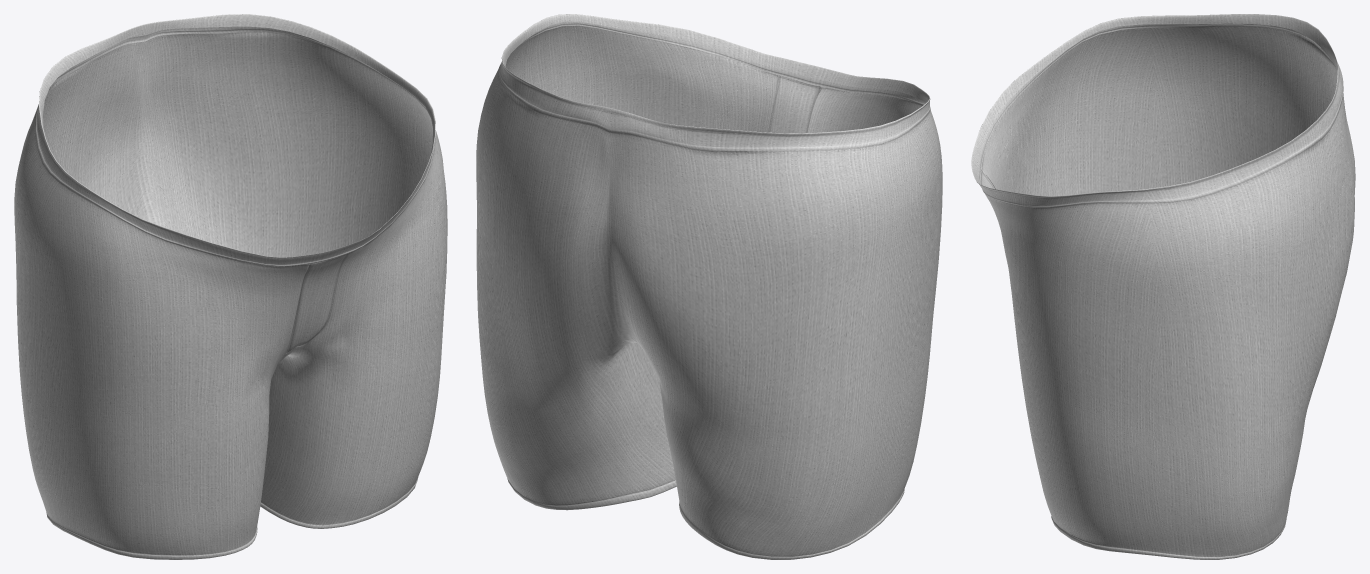
The model's file is Shorts.glb.
3 renders of one model, left to right at view 1: azimuth 30°, elevation 25°; view 2: azimuth 150°, elevation 25°; view 3: azimuth 270°, elevation 25°, orthographic. The views are drawn at different scales.
Parts seen in each view (by area): view 1: Boxers_for_Genesis.002; view 2: Boxers_for_Genesis.002; view 3: Boxers_for_Genesis.002.
Boxes of the visible parts, box(x1,y1,x2,y2) form: Boxers_for_Genesis.002: box(14, 14, 447, 559); Boxers_for_Genesis.002: box(476, 14, 942, 559); Boxers_for_Genesis.002: box(971, 14, 1355, 559).
Bounding box in the file's own units: 10.19 × 10.61 × 8.87.
Materials: 4 (4 with a texture image).
